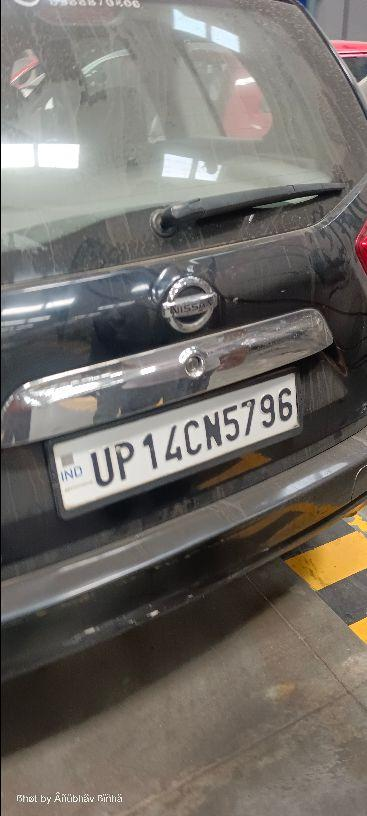license_plate: (43, 366, 304, 521)
